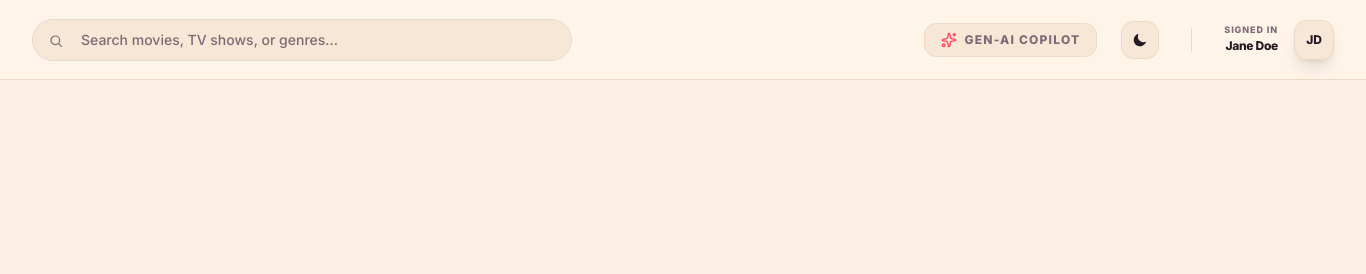
Test: TopHeader auth state › shows avatar initials and an account menu when signed in (even without a Firestore profile)
Expected: the text "JD" is shown, [1306,32,1322,48]
Click the button with aria-label "account menu". click: (1279,40)
box: [1224,20,1334,60]
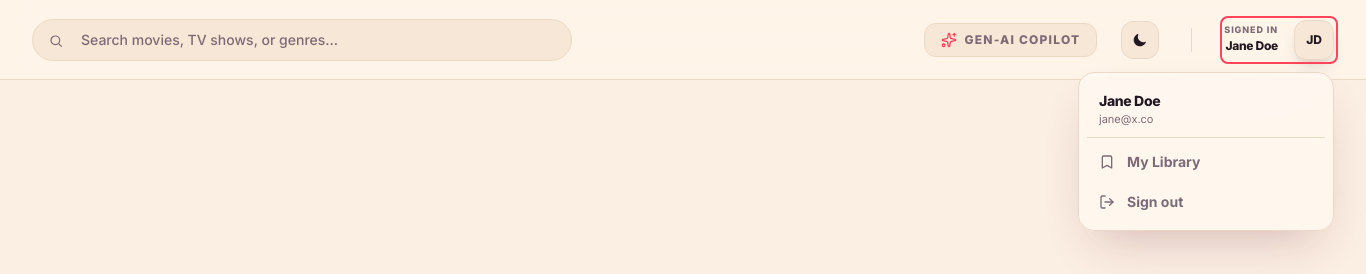
Now the menu item "My Library" is shown, box [1087,142,1325,182]
Now the menu item "Sign out" is shown, box [1087,182,1325,222]
Now the text "jane@x.co" is shown, box [1099,112,1153,126]
